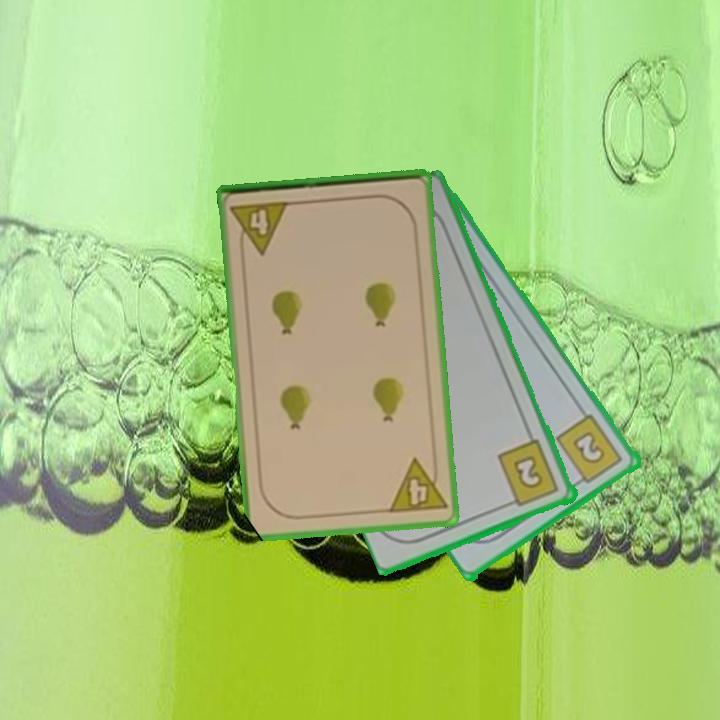2b: (553, 411, 626, 490), (494, 436, 562, 510)
4p: (385, 454, 450, 516), (227, 197, 292, 258)
